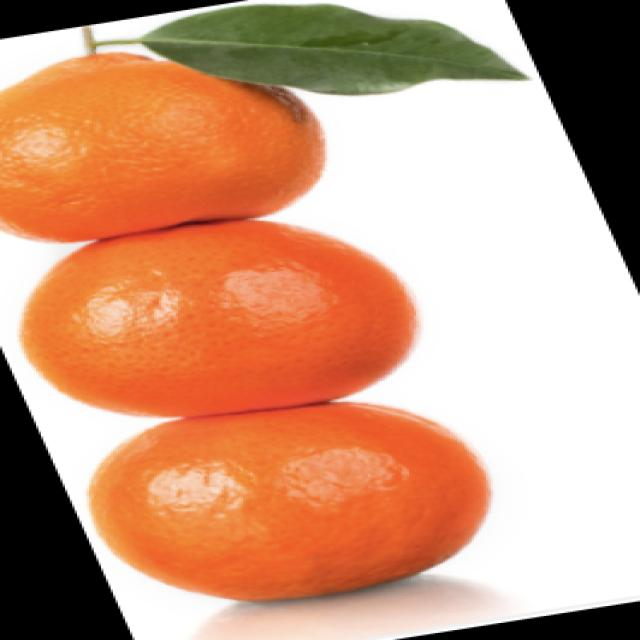matang: (98, 406, 502, 608), (19, 221, 434, 412), (0, 42, 320, 239)
